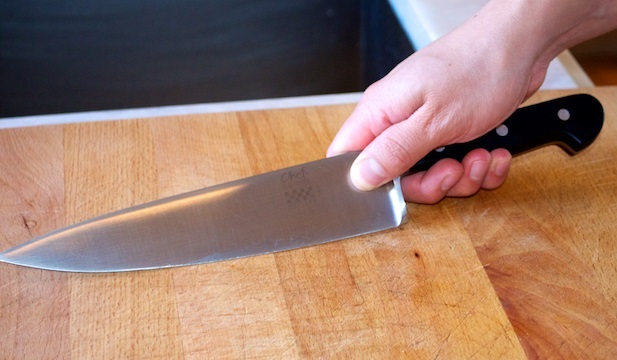knife: (1, 69, 519, 282)
